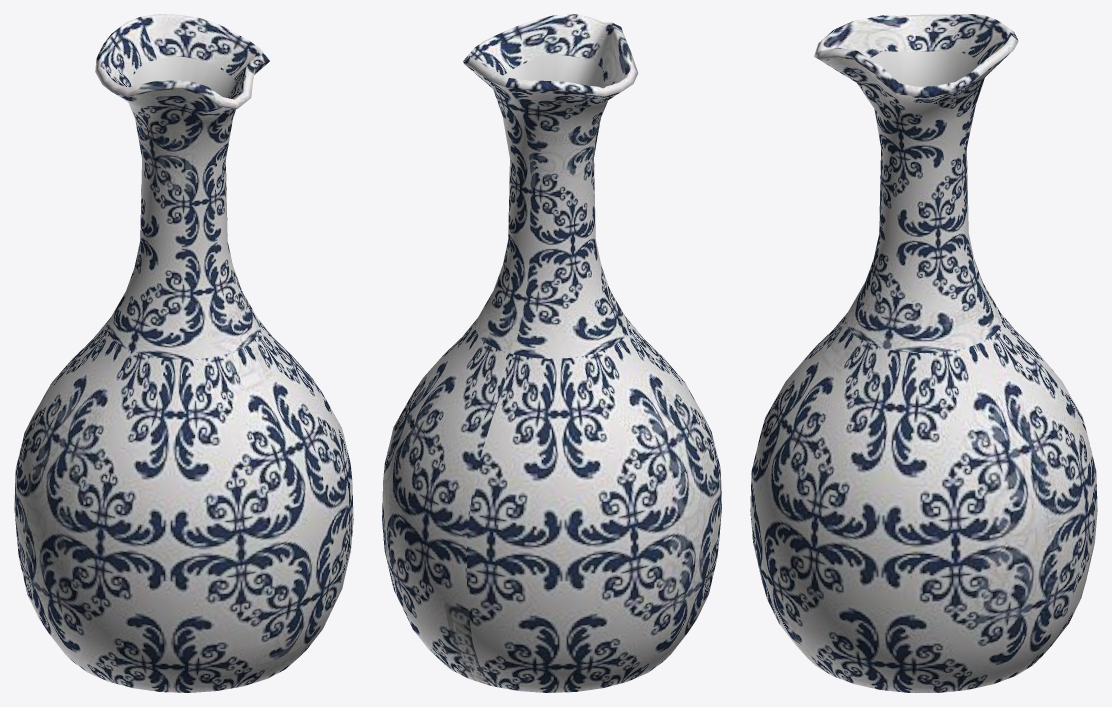
File: alfa_ceramica_a.glb
3 views of the same model, side by side, from view 1: azimuth 30°, elevation 25°; view 2: azimuth 150°, elevation 25°; view 3: azimuth 270°, elevation 25° (orthographic). The views are drawn at different scales.
Parts seen in each view (by area): view 1: ceramic_vase_01; view 2: ceramic_vase_01; view 3: ceramic_vase_01.
Boxes of the visible parts, <box> form: ceramic_vase_01: <box>14,14,353,692</box>; ceramic_vase_01: <box>382,14,721,692</box>; ceramic_vase_01: <box>750,14,1097,692</box>.
Bounding box in the file's own units: 0.2049 × 0.4014 × 0.2064.
2 materials, 1 textured.
